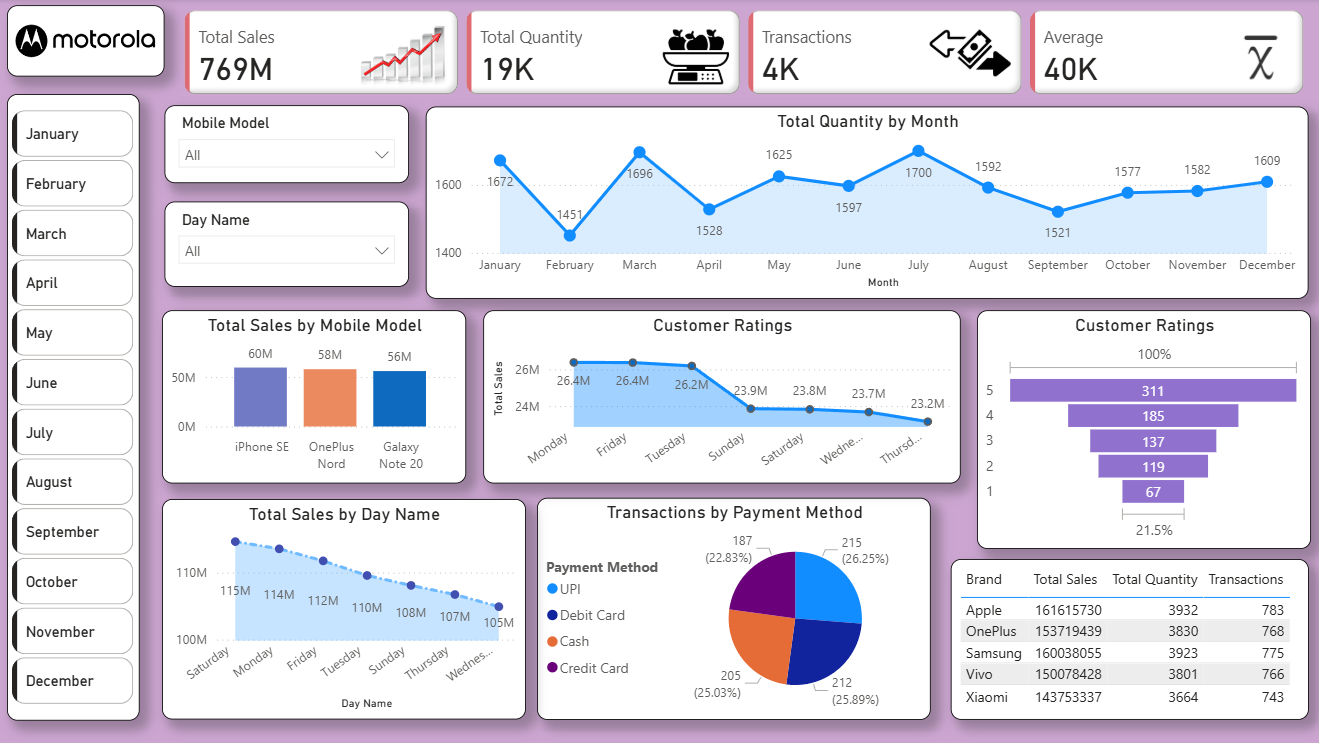

The page's visual inventory and layout, read from the dashboard file:
{"tool":"powerbi","page":{"name":"Page 1","canvas":[1280,720],"ordinal":0},"visuals":[{"type":"shape","box":[9.6,5.5,152.3,68.6],"z":0},{"type":"image","box":[12.3,9.6,146.8,61.7],"z":1000},{"type":"shape","box":[9.7,91.7,127.9,604.4],"z":2000},{"type":"advancedSlicerVisual","fields":{"Values":["Sheet1.Date.Variation.Date Hierarchy.Month"]},"box":[9.7,102.5,127.9,593.6],"z":3000},{"type":"cardVisual","fields":{"Data":["Sheet1.Total Sales","Sheet1.Total Quantity","Sheet1.Transactions","Sheet1.Average"]},"box":[175.6,5.5,1092.3,91.9],"z":4000},{"type":"lineChart","fields":{"Y":["Sheet1.Total Quantity"],"Category":["Sheet1.Date.Variation.Date Hierarchy.Month","Sheet1.Date.Variation.Date Hierarchy.Day"]},"box":[414.4,104.3,852.1,185.2],"z":5000},{"type":"columnChart","fields":{"Category":["Sheet1.Mobile Model"],"Y":["Sheet1.Total Sales"]},"box":[159.2,300.5,293.7,167.4],"z":6000},{"type":"pieChart","fields":{"Category":["Sheet1.Payment Method"],"Y":["Sheet1.Transactions"]},"box":[521.4,481.6,380.1,214.1],"z":7000},{"type":"funnel","title":"Customer Ratings","fields":{"Category":["Sheet1.Customer Ratings"],"Y":["CountNonNull(Sheet1.Customer Ratings)"]},"box":[945.5,300.5,322.5,230.5],"z":8000},{"type":"areaChart","title":"Customer Ratings","fields":{"Category":["Sheet1.Day Name"],"Y":["Sheet1.Total Sales"]},"box":[469.3,300.5,461.1,167.4],"z":9000},{"type":"stackedAreaChart","fields":{"Category":["Sheet1.Day Name"],"Y":["Sheet1.Total Sales"]},"box":[159.2,483,351.3,212.7],"z":10000},{"type":"tableEx","fields":{"Values":["Sheet1.Brand","Sheet1.Total Sales","Sheet1.Total Quantity","Sheet1.Transactions"]},"box":[920.8,540.7,345.8,155.1],"z":11000},{"type":"slicer","fields":{"Values":["Sheet1.Mobile Model"]},"box":[161.9,102.9,236,75.5],"z":12000},{"type":"slicer","fields":{"Values":["Sheet1.Day Name"]},"box":[161.9,194.9,236,82.3],"z":13000}]}

Visuals, with their boxes in screenshot pixels (x1, y1, x2, y2), scaled from the page's 1280x720 canvas onto the 1319x743 screenshot:
shape: region(10, 6, 167, 76)
image: region(13, 10, 164, 74)
shape: region(10, 95, 142, 718)
advancedSlicerVisual - Sheet1.Date.Variation.Date Hierarchy.Month: region(10, 106, 142, 718)
cardVisual - Sheet1.Total Sales x Sheet1.Total Quantity: region(181, 6, 1307, 101)
lineChart - Sheet1.Total Quantity x Sheet1.Date.Variation.Date Hierarchy.Month: region(427, 108, 1305, 299)
columnChart - Sheet1.Mobile Model x Sheet1.Total Sales: region(164, 310, 467, 483)
pieChart - Sheet1.Payment Method x Sheet1.Transactions: region(537, 497, 929, 718)
"Customer Ratings" funnel: region(974, 310, 1307, 548)
"Customer Ratings" areaChart: region(484, 310, 959, 483)
stackedAreaChart - Sheet1.Day Name x Sheet1.Total Sales: region(164, 498, 526, 718)
tableEx - Sheet1.Brand x Sheet1.Total Sales: region(949, 558, 1305, 718)
slicer - Sheet1.Mobile Model: region(167, 106, 410, 184)
slicer - Sheet1.Day Name: region(167, 201, 410, 286)
